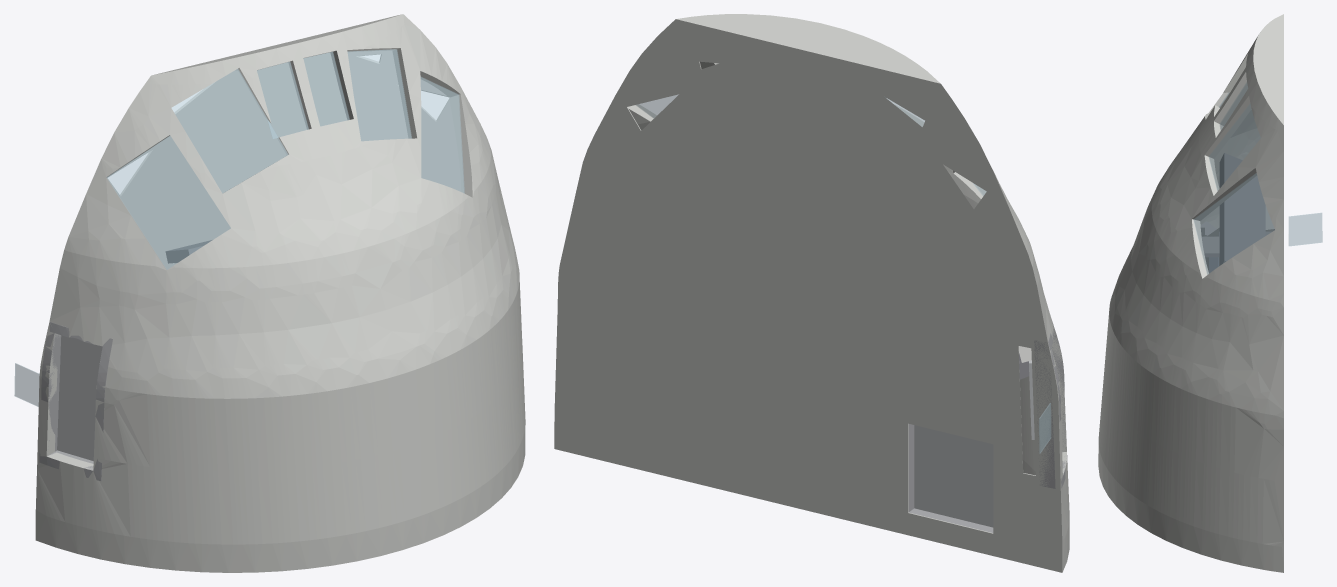
Rendered from cockpit03_airliner_flight_deck_interior.glb.
3 renders of one model, left to right at view 1: azimuth 30°, elevation 25°; view 2: azimuth 150°, elevation 25°; view 3: azimuth 270°, elevation 25°, orthographic. The views are drawn at different scales.
Parts seen in each view (by area): view 1: pressure_vessel, window_glass_inner, hatch_door_1, hatch_tunnel_1; view 2: pressure_vessel, hatch_door_2, hatch_tunnel_1, window_glass_inner, hatch_tunnel_2; view 3: pressure_vessel, window_glass_inner, main_panel, rudder_pedals_2.
Boxes of the visible parts, bbox=[...] form: pressure_vessel: bbox=[35, 14, 525, 572]; window_glass_inner: bbox=[14, 49, 464, 406]; hatch_door_1: bbox=[57, 335, 102, 460]; hatch_tunnel_1: bbox=[39, 322, 112, 481]; pressure_vessel: bbox=[554, 14, 1069, 572]; hatch_door_2: bbox=[914, 425, 993, 527]; hatch_tunnel_1: bbox=[1034, 319, 1067, 488]; window_glass_inner: bbox=[636, 94, 1051, 453]; hatch_tunnel_2: bbox=[908, 424, 993, 532]; pressure_vessel: bbox=[1098, 14, 1283, 572]; window_glass_inner: bbox=[1193, 82, 1322, 274]; main_panel: bbox=[1219, 153, 1265, 265]; rudder_pedals_2: bbox=[1201, 236, 1219, 257].
Size of the model in its own units: 3.57 by 3.18 by 1.58.
